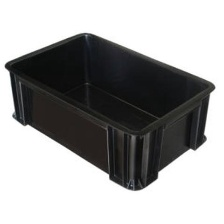plastic_box: (0, 24, 220, 197)
